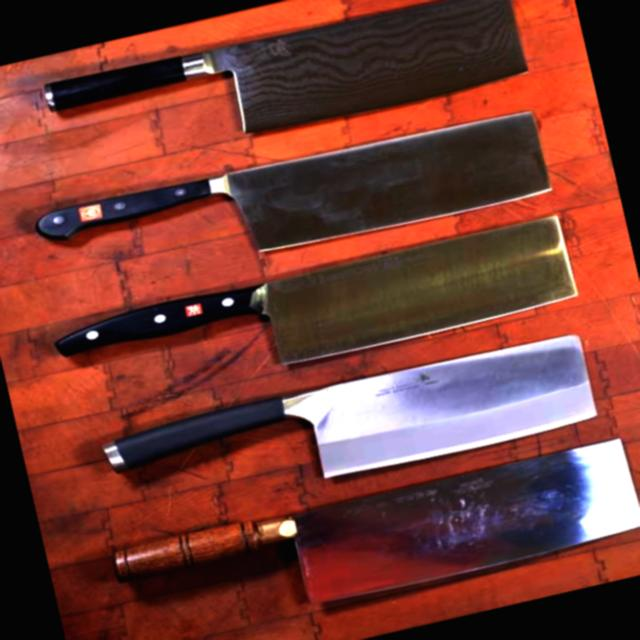cleaver: (110, 429, 640, 640), (96, 324, 601, 536), (32, 101, 540, 302), (70, 212, 573, 400), (49, 0, 525, 163)
